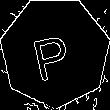P_N: (32, 23, 78, 81)
